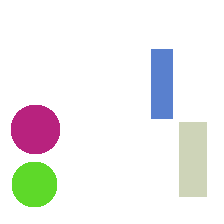circle: (11, 105, 59, 153), (12, 162, 56, 206)
rectangle: (179, 122, 206, 196), (151, 49, 172, 118)
